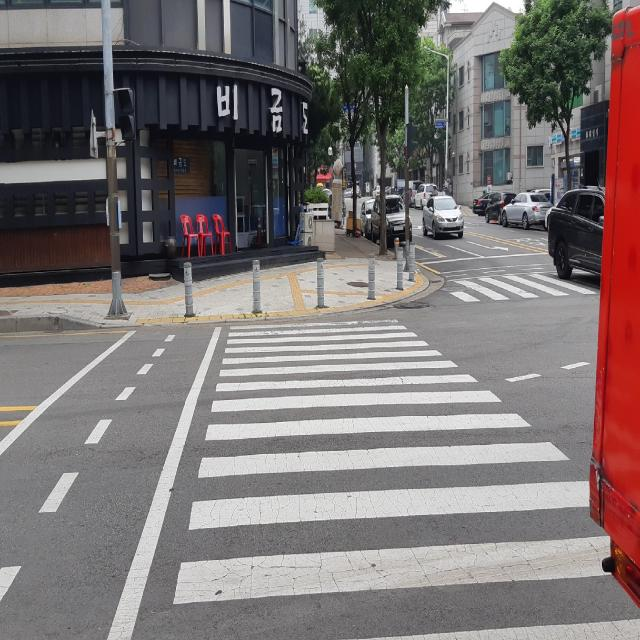횡단보도: (169, 316, 640, 640), (444, 271, 601, 301)
